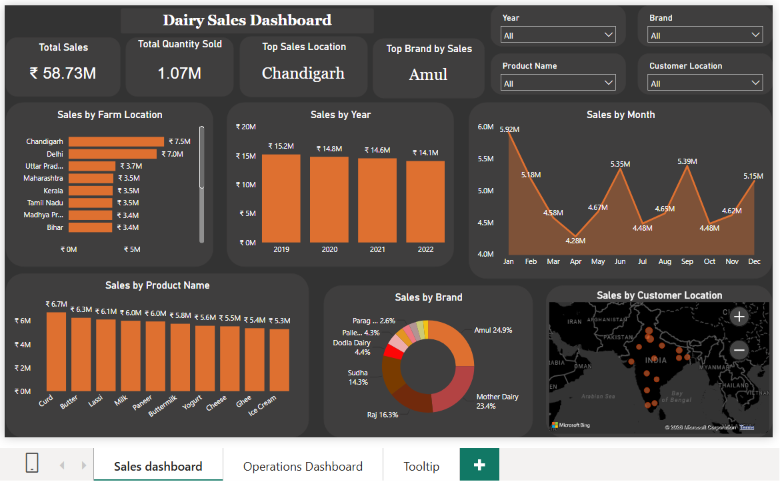

This screenshot's page, from the dashboard's own definition file:
{"tool":"powerbi","page":{"name":"Sales dashboard ","canvas":[1280,720],"ordinal":0},"visuals":[{"type":"cardVisual","title":"Total Sales ","fields":{"Data":["Product.Total sales"]},"box":[1.2,53.8,191.2,98.8],"z":0},{"type":"map","title":"Sales by Customer Location","fields":{"Category":["sales.Customer Location"],"Size":["Product.Total sales"]},"box":[901.2,466.2,378.8,253.8],"z":1000},{"type":"cardVisual","title":"Top Brand by Sales","fields":{"Data":["Product.Top Brand"]},"box":[612.9,54.3,187,100.1],"z":2000},{"type":"cardVisual","title":"Top Sales Location","fields":{"Data":["Product.most sales state"]},"box":[390.9,51.9,213.5,101.3],"z":3000},{"type":"donutChart","title":"Sales by Brand","fields":{"Category":["sales.Brand"],"Y":["Product.Total sales"]},"box":[531.2,466.2,348.8,253.8],"z":4000},{"type":"cardVisual","title":"Total Quantity Sold","fields":{"Data":["Product.Total quantity sold"]},"box":[202,54,179.8,98.9],"z":5000},{"type":"barChart","title":"Sales by Farm Location","fields":{"Category":["sales.Farm location"],"Y":["Product.Total sales"]},"box":[1.2,161.2,346.2,273.8],"z":6000},{"type":"columnChart","title":"Sales by Product Name","fields":{"Category":["Product.Product Name"],"Y":["Product.Total sales"]},"box":[1.2,446.2,505,273.8],"z":7000},{"type":"columnChart","title":"Sales by Year","fields":{"Category":["date.Year"],"Y":["Product.Total sales"]},"box":[370.4,161.7,378.8,273.9],"z":8000},{"type":"areaChart","title":"Sales by Month ","fields":{"Category":["date.month short","date.Year"],"Y":["Product.Total sales"]},"box":[773.8,161.2,506.2,293.8],"z":9000},{"type":"slicer","fields":{"Values":["sales.Customer Location"]},"box":[1054.4,80.8,225.6,68.8],"z":10000},{"type":"slicer","fields":{"Values":["sales.Brand"]},"box":[1054.4,0,225.6,68.8],"z":11000},{"type":"slicer","fields":{"Values":["date.Year"]},"box":[810.7,0,225.6,68.8],"z":12000},{"type":"slicer","fields":{"Values":["sales.Product Name"]},"box":[810.7,80.8,225.6,68.8],"z":13000},{"type":"textbox","box":[193,5,422,42],"z":14000}]}

Visuals, with their boxes on the page's 1280x720 design canvas (x1, y1, x2, y2). These are canvas units, not pixel positions in the 780x481 screenshot, which may show the page scaled, cropped or inside an application window:
"Total Sales " cardVisual: detection(1, 54, 192, 153)
"Sales by Customer Location" map: detection(901, 466, 1280, 720)
"Top Brand by Sales" cardVisual: detection(613, 54, 800, 154)
"Top Sales Location" cardVisual: detection(391, 52, 604, 153)
"Sales by Brand" donutChart: detection(531, 466, 880, 720)
"Total Quantity Sold" cardVisual: detection(202, 54, 382, 153)
"Sales by Farm Location" barChart: detection(1, 161, 347, 435)
"Sales by Product Name" columnChart: detection(1, 446, 506, 720)
"Sales by Year" columnChart: detection(370, 162, 749, 436)
"Sales by Month " areaChart: detection(774, 161, 1280, 455)
slicer - sales.Customer Location: detection(1054, 81, 1280, 150)
slicer - sales.Brand: detection(1054, 0, 1280, 69)
slicer - date.Year: detection(811, 0, 1036, 69)
slicer - sales.Product Name: detection(811, 81, 1036, 150)
textbox: detection(193, 5, 615, 47)
